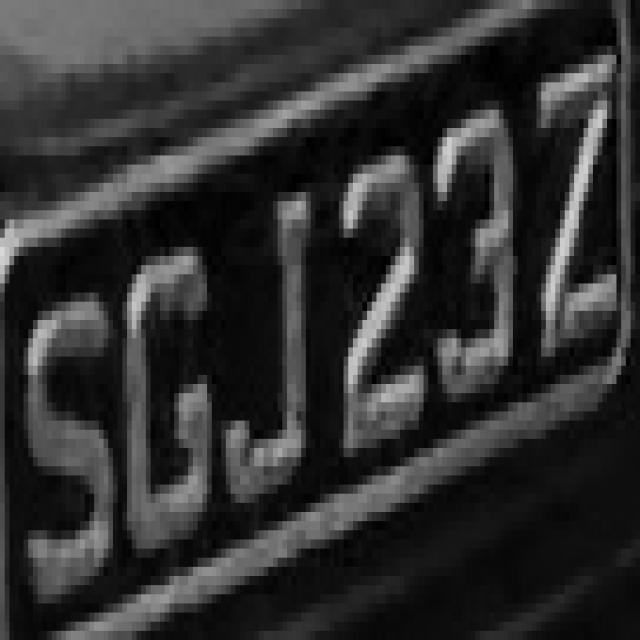2: (324, 137, 438, 476)
3: (424, 110, 527, 420)
G: (118, 201, 221, 558)
J: (216, 165, 330, 512)
S: (14, 238, 113, 612)
Z: (527, 37, 626, 366)
